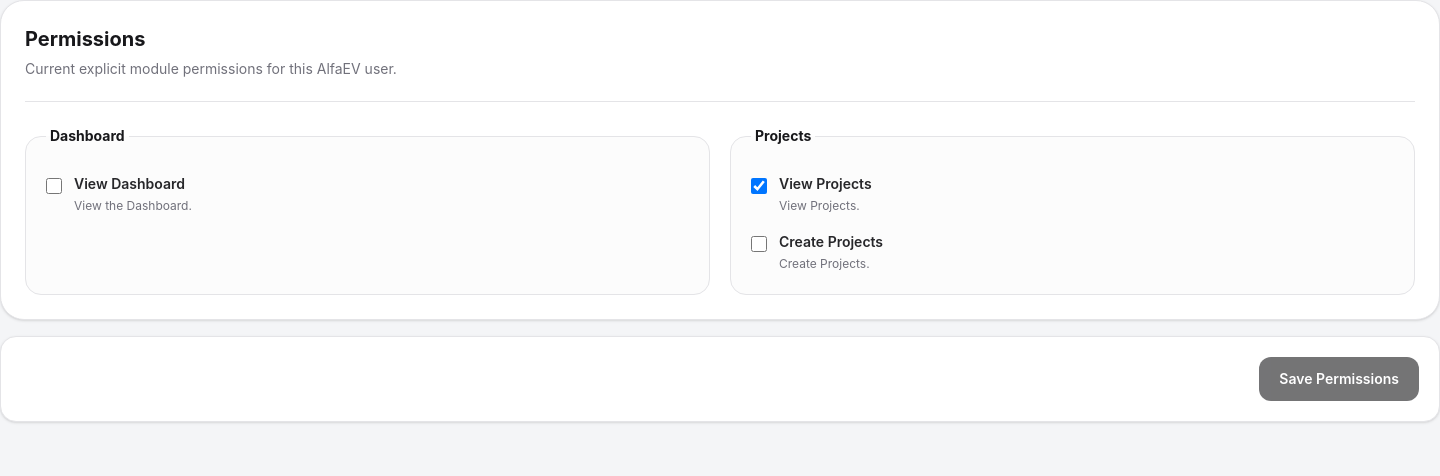
Test: UserPermissionEditor › fails closed on stale state and refetches before another save
Click the checkbox labelled "Create Projects": click(759, 244) [751,236,767,252]
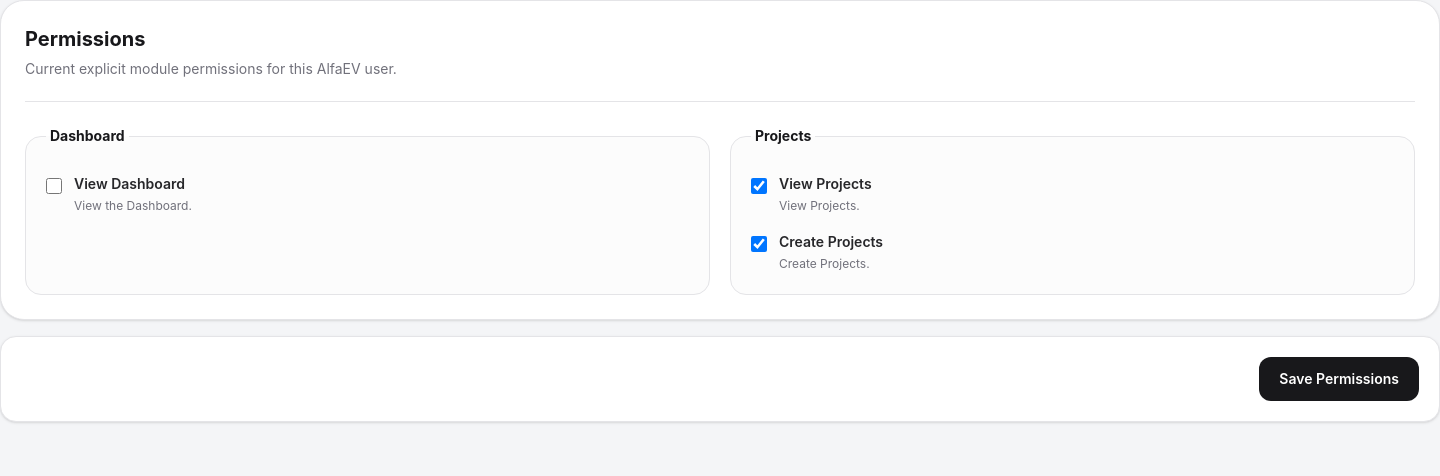
Click the button "Save Permissions": click(1339, 379) [1259,357,1419,401]
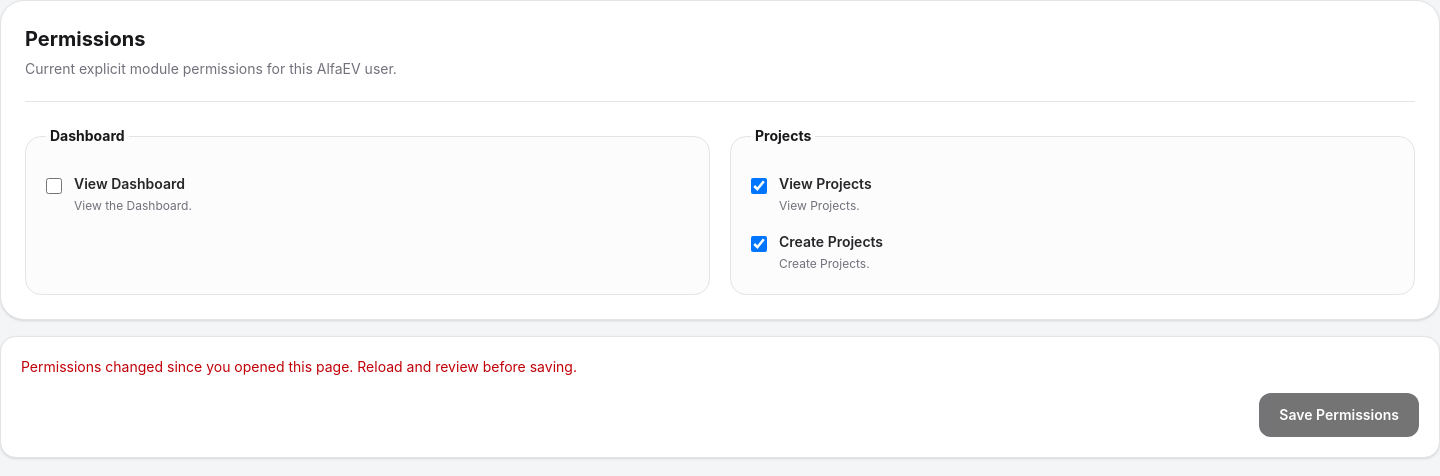
Expected: the message reads "Permissions changed since you opened this page. Reload and review before saving.", [21,358,577,375]
Expected: the button "Save Permissions" is disabled, [1259,393,1419,437]
